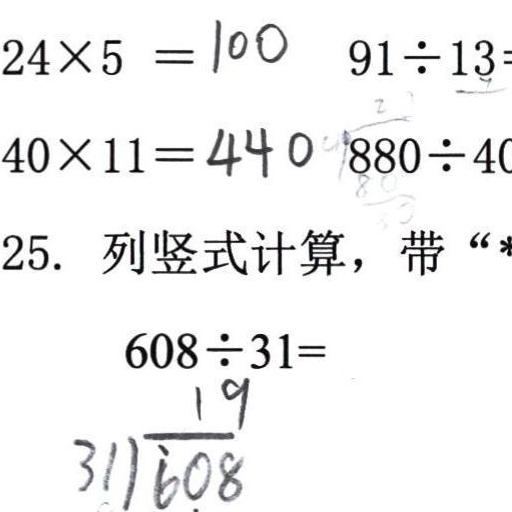ans: (203, 119, 312, 178), (205, 12, 287, 72)
